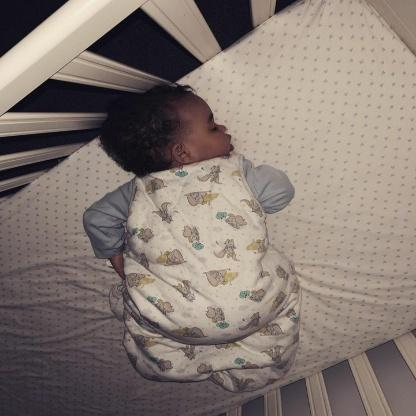baby: (83, 85, 303, 391)
